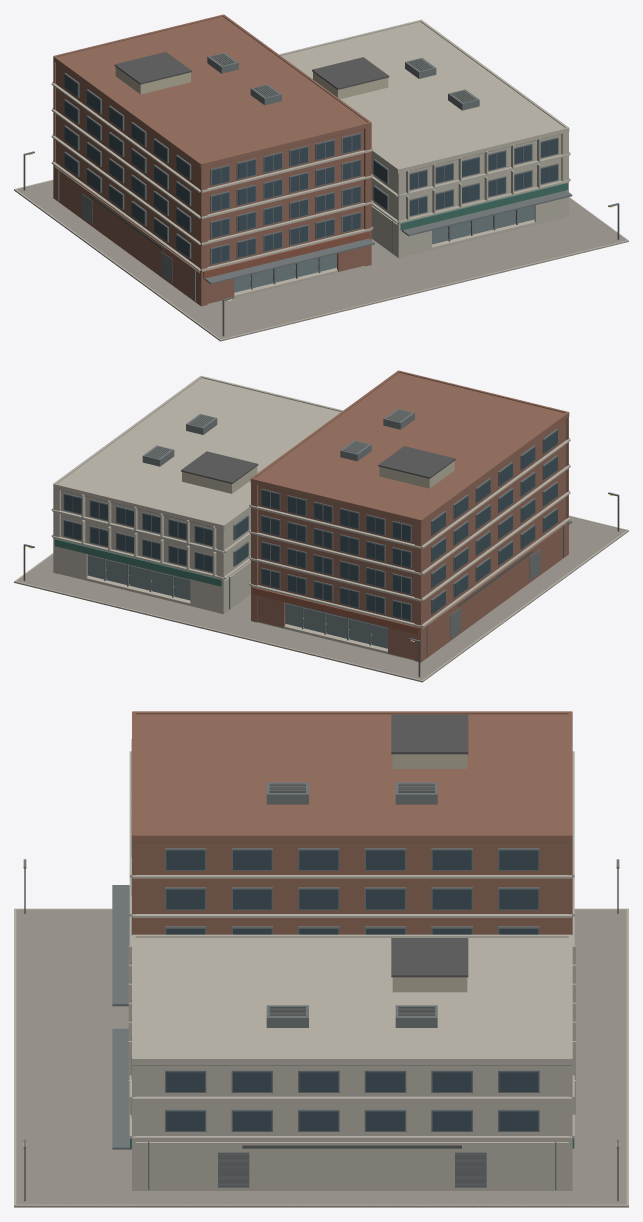
File: block-0-1.glb
3 renders of one model, top to bottom at view 1: azimuth 30°, elevation 25°; view 2: azimuth 150°, elevation 25°; view 3: azimuth 270°, elevation 25°, orthographic. The views are drawn at different scales.
Parts seen in each view (by area): view 1: block-0-1:brick, block-0-1:concrete, block-0-1:paversGrey, block-0-1:glass, block-0-1:aluminium, block-0-1:roof, block-0-1:shopGlass, block-0-1:stucco, block-0-1:darkSteel, block-0-1:greenTrim, block-0-1:oxideTrim; view 2: block-0-1:brick, block-0-1:concrete, block-0-1:glass, block-0-1:paversGrey, block-0-1:aluminium, block-0-1:shopGlass, block-0-1:roof, block-0-1:stucco, block-0-1:darkSteel, block-0-1:greenTrim, block-0-1:oxideTrim; view 3: block-0-1:concrete, block-0-1:brick, block-0-1:paversGrey, block-0-1:glass, block-0-1:aluminium, block-0-1:roof, block-0-1:darkSteel, block-0-1:stucco.
Boxes of the visible parts, <box> form: block-0-1:brick: <box>53,14,371,306</box>; block-0-1:concrete: <box>14,19,628,340</box>; block-0-1:paversGrey: <box>14,180,628,341</box>; block-0-1:glass: <box>64,74,557,263</box>; block-0-1:aluminium: <box>23,52,619,301</box>; block-0-1:roof: <box>114,52,561,172</box>; block-0-1:shopGlass: <box>234,205,534,292</box>; block-0-1:stucco: <box>115,67,388,99</box>; block-0-1:darkSteel: <box>23,53,619,336</box>; block-0-1:greenTrim: <box>400,183,567,230</box>; block-0-1:oxideTrim: <box>203,231,370,278</box>; block-0-1:brick: <box>250,370,569,662</box>; block-0-1:concrete: <box>14,375,628,681</box>; block-0-1:glass: <box>64,430,557,619</box>; block-0-1:paversGrey: <box>14,517,628,682</box>; block-0-1:aluminium: <box>23,408,619,657</box>; block-0-1:shopGlass: <box>87,554,387,648</box>; block-0-1:roof: <box>60,446,455,528</box>; block-0-1:stucco: <box>182,461,454,493</box>; block-0-1:darkSteel: <box>23,409,619,677</box>; block-0-1:greenTrim: <box>54,539,221,586</box>; block-0-1:oxideTrim: <box>252,587,419,634</box>; block-0-1:concrete: <box>14,751,628,1207</box>; block-0-1:brick: <box>132,711,572,934</box>; block-0-1:paversGrey: <box>14,910,628,1207</box>; block-0-1:glass: <box>166,850,538,1130</box>; block-0-1:aluminium: <box>23,739,619,1189</box>; block-0-1:roof: <box>133,714,571,1065</box>; block-0-1:darkSteel: <box>24,783,618,1201</box>; block-0-1:stucco: <box>392,754,467,992</box>.
Bounding box in the file's own units: 48 × 17.31 × 42.
